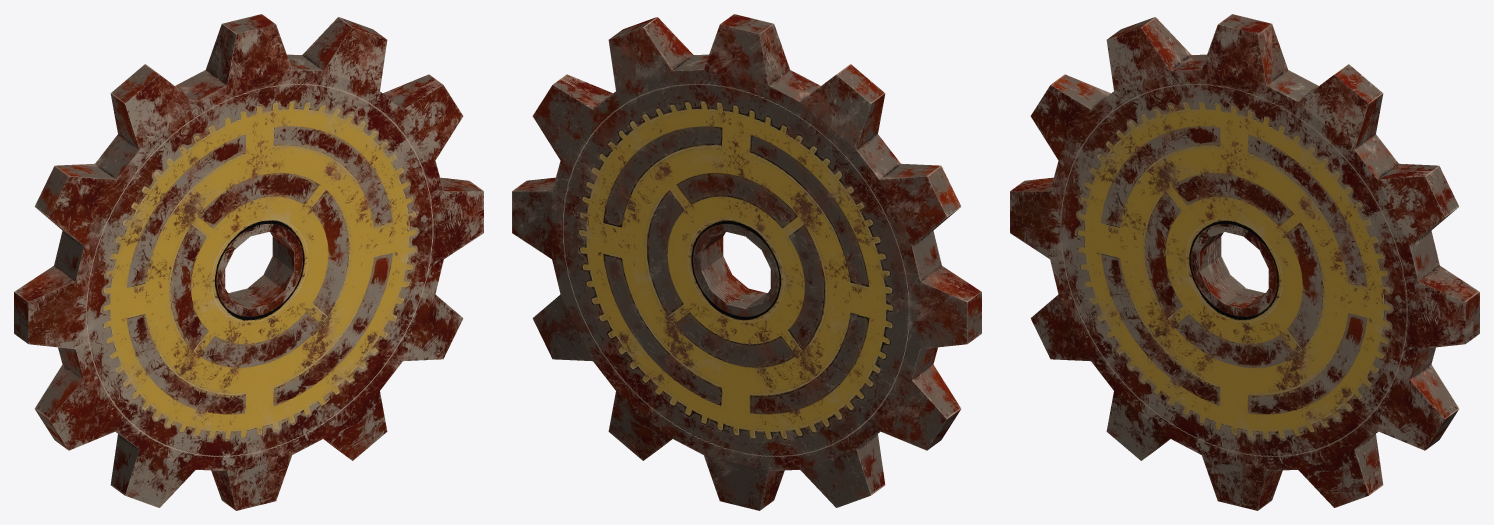
Rendered from Engrenagem.fbx.
3 views of the same model, side by side, from view 1: azimuth 30°, elevation 25°; view 2: azimuth 150°, elevation 25°; view 3: azimuth 330°, elevation 25° (orthographic).
Visible parts, largest first — view 1: GearLowPoly; view 2: GearLowPoly; view 3: GearLowPoly.
Boxes of the visible parts, x1,y1,x2,y2 form: GearLowPoly: (14, 14, 483, 510); GearLowPoly: (512, 14, 981, 510); GearLowPoly: (1010, 14, 1479, 510).
Size of the model in its own units: 719 by 719 by 59.
